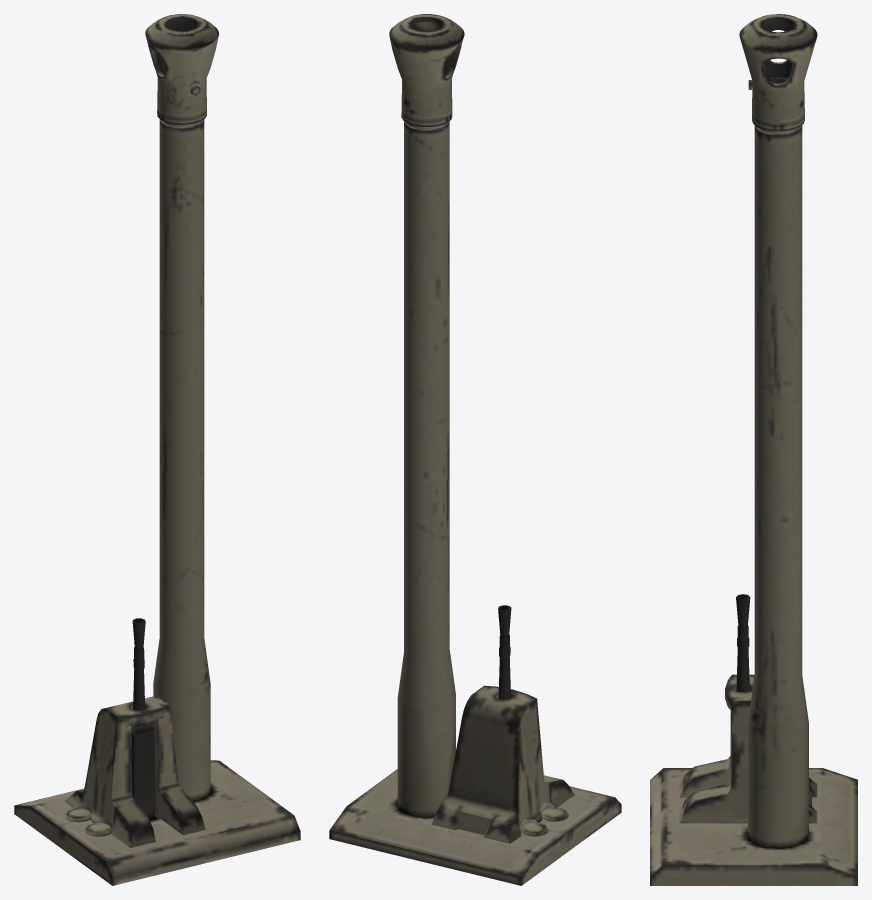
File: Gun_03.glb
The picture shows the model from 3 angles, left to right: view 1: azimuth 30°, elevation 25°; view 2: azimuth 150°, elevation 25°; view 3: azimuth 270°, elevation 25°; orthographic projection. The views are drawn at different scales.
Visible parts, largest first — view 1: set_0_group_0; view 2: set_0_group_0; view 3: set_0_group_0.
Boxes of the visible parts, x1,y1,x2,y2 form: set_0_group_0: [14, 14, 300, 885]; set_0_group_0: [329, 14, 621, 885]; set_0_group_0: [650, 14, 857, 885].
Bounding box in the file's own units: 0.5209 × 2.07 × 0.4702.
1 material, 1 textured.
